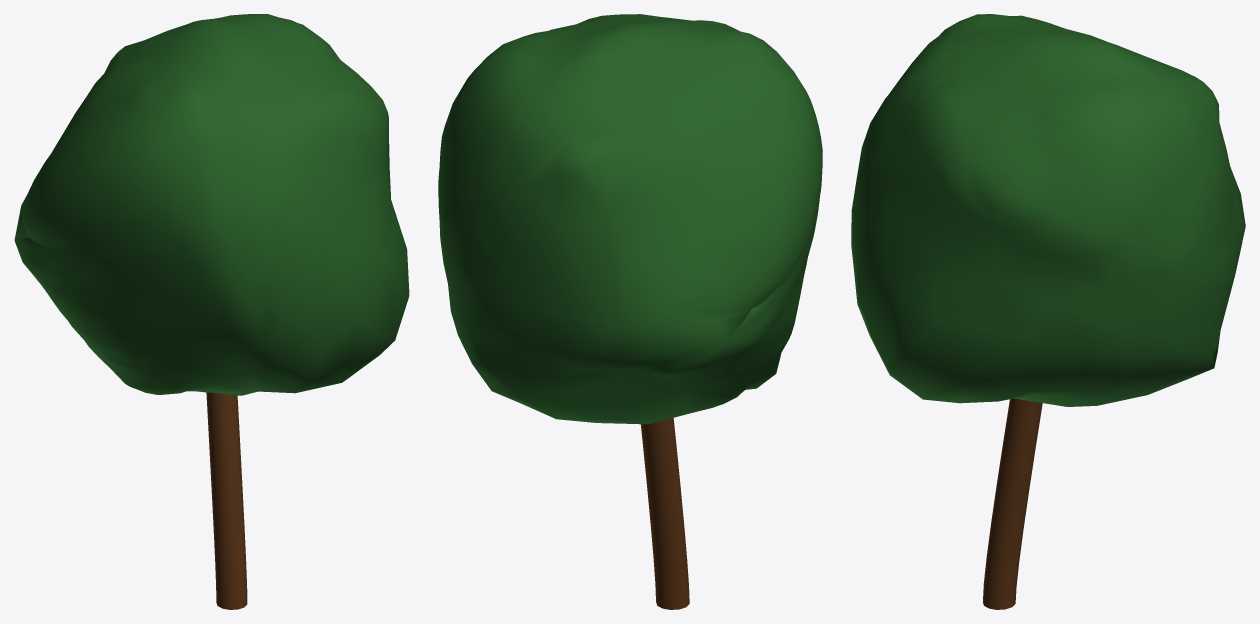
File: trees_Tree_05.fbx
3 renders of one model, left to right at view 1: azimuth 30°, elevation 25°; view 2: azimuth 150°, elevation 25°; view 3: azimuth 270°, elevation 25°, orthographic. The views are drawn at different scales.
Visible parts, largest first — view 1: Icosphere.006, BezierCurve.003; view 2: Icosphere.006, BezierCurve.003; view 3: Icosphere.006, BezierCurve.003.
Boxes of the visible parts, x1,y1,x2,y2 form: Icosphere.006: (14, 14, 409, 395); BezierCurve.003: (206, 392, 247, 609); Icosphere.006: (438, 14, 822, 424); BezierCurve.003: (640, 418, 689, 609); Icosphere.006: (851, 14, 1245, 406); BezierCurve.003: (983, 398, 1042, 609).
Size of the model in its own units: 6.75 by 11.1 by 6.92.
